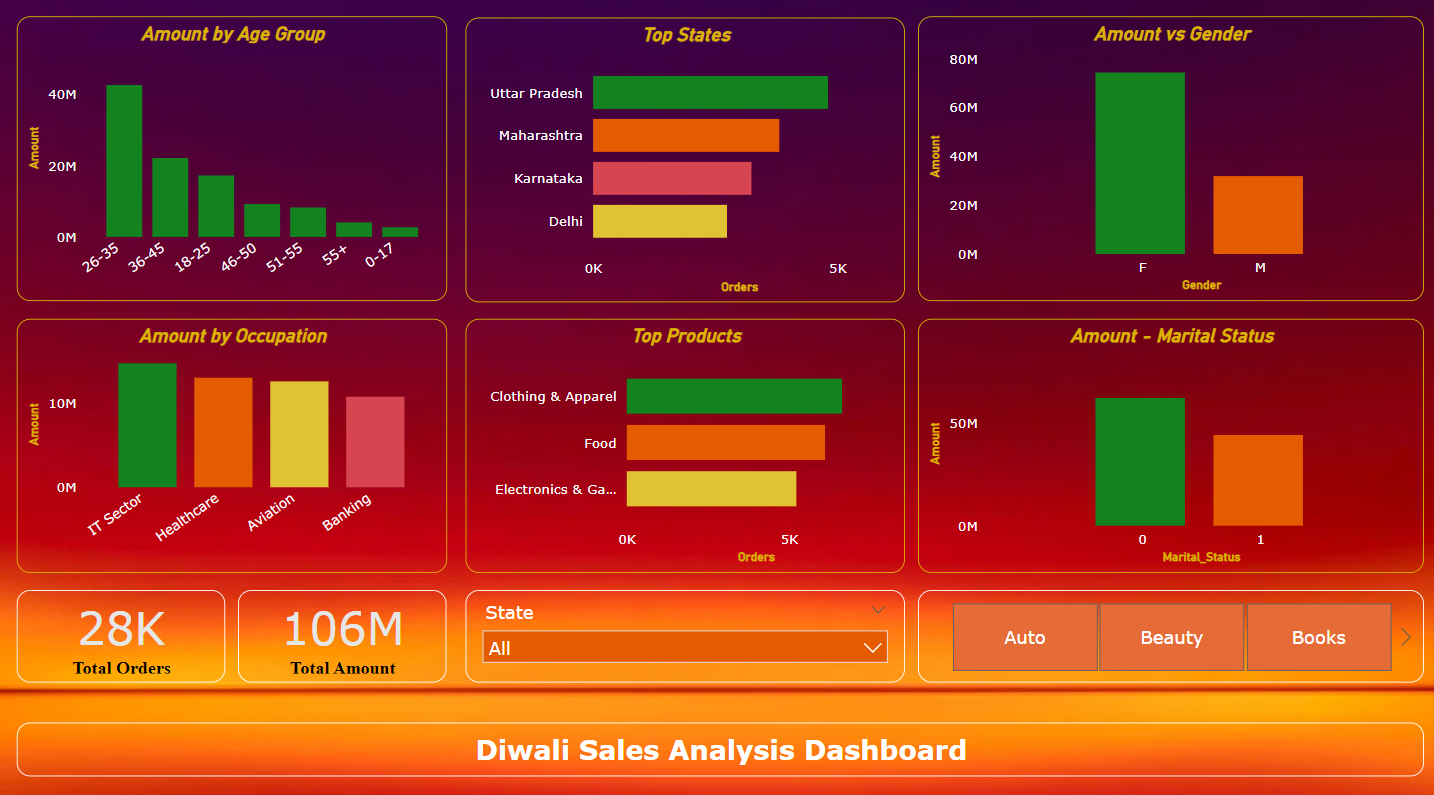

The dashboard page shown, as its layout file describes it:
{"tool":"powerbi","page":{"name":"Page 1","canvas":[1280,720],"ordinal":0},"visuals":[{"type":"textbox","box":[16.5,647.7,1252.8,48],"z":0},{"type":"columnChart","title":"Amount vs Gender","fields":{"Category":["Diwali Sales Data.Gender"],"Y":["Sum(Diwali Sales Data.Amount)"]},"box":[819.2,19.2,450.1,253.9],"z":1000},{"type":"columnChart","title":"Amount - Marital Status","fields":{"Y":["Sum(Diwali Sales Data.Amount)"],"Category":["Diwali Sales Data.Marital_Status"]},"box":[819.2,288.2,450.1,226.4],"z":2000},{"type":"barChart","title":"Top States","fields":{"Category":["Diwali Sales Data.State"],"Y":["Sum(Diwali Sales Data.Orders)"]},"box":[415.8,20.6,391.1,253.9],"z":3000},{"type":"barChart","title":"Top Products","fields":{"Y":["Sum(Diwali Sales Data.Orders)"],"Category":["Diwali Sales Data.Product_Category"]},"box":[415.8,288.2,391.1,226.4],"z":4000},{"type":"columnChart","title":"Amount by Age Group","fields":{"Category":["Diwali Sales Data.Age Group"],"Y":["Sum(Diwali Sales Data.Amount)"]},"box":[16.5,19.2,382.8,253.9],"z":5000},{"type":"columnChart","title":"Amount by Occupation","fields":{"Category":["Diwali Sales Data.Occupation"],"Y":["Sum(Diwali Sales Data.Amount)"]},"box":[16.5,288.2,382.8,226.4],"z":6000},{"type":"slicer","fields":{"Values":["Diwali Sales Data.Product_Category"]},"box":[819.2,529.7,450.1,82.3],"z":7000},{"type":"slicer","fields":{"Values":["Diwali Sales Data.State"]},"box":[415.8,529.7,391.1,82.3],"z":7001},{"type":"card","fields":{"Values":["Sum(Diwali Sales Data.Amount)"]},"box":[214.1,529.7,185.2,82.3],"z":7002},{"type":"card","fields":{"Values":["Sum(Diwali Sales Data.Orders)"]},"box":[16.5,529.7,185.2,82.3],"z":7004}]}

Visuals, with their boxes in screenshot pixels (x1, y1, x2, y2), scaled from the page's 1280x720 canvas onto the 1434x795 screenshot:
textbox: {"left": 18, "top": 715, "right": 1422, "bottom": 768}
"Amount vs Gender" columnChart: {"left": 918, "top": 21, "right": 1422, "bottom": 302}
"Amount - Marital Status" columnChart: {"left": 918, "top": 318, "right": 1422, "bottom": 568}
"Top States" barChart: {"left": 466, "top": 23, "right": 904, "bottom": 303}
"Top Products" barChart: {"left": 466, "top": 318, "right": 904, "bottom": 568}
"Amount by Age Group" columnChart: {"left": 18, "top": 21, "right": 447, "bottom": 302}
"Amount by Occupation" columnChart: {"left": 18, "top": 318, "right": 447, "bottom": 568}
slicer - Diwali Sales Data.Product_Category: {"left": 918, "top": 585, "right": 1422, "bottom": 676}
slicer - Diwali Sales Data.State: {"left": 466, "top": 585, "right": 904, "bottom": 676}
card - Sum(Diwali Sales Data.Amount): {"left": 240, "top": 585, "right": 447, "bottom": 676}
card - Sum(Diwali Sales Data.Orders): {"left": 18, "top": 585, "right": 226, "bottom": 676}
